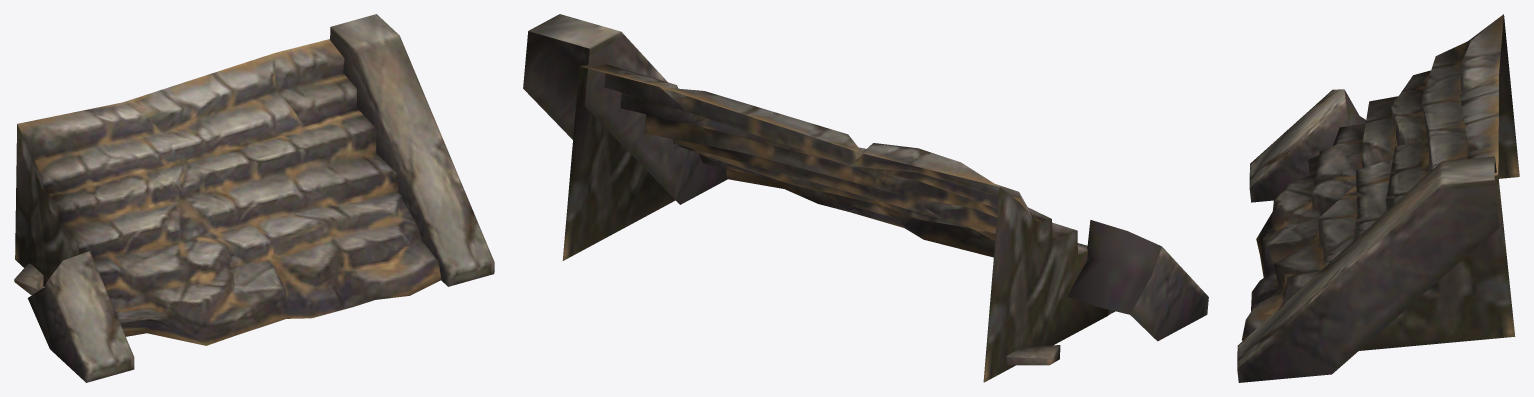
File: StoneF_1.FBX
3 renders of one model, left to right at view 1: azimuth 30°, elevation 25°; view 2: azimuth 150°, elevation 25°; view 3: azimuth 270°, elevation 25°, orthographic. The views are drawn at different scales.
Parts seen in each view (by area): view 1: StoneF_1; view 2: StoneF_1; view 3: StoneF_1.
Boxes of the visible parts, x1,y1,x2,y2 form: StoneF_1: (14,14,494,382); StoneF_1: (523,14,1208,382); StoneF_1: (1237,14,1519,382).
Bounding box in the file's own units: 326 × 149 × 175.
